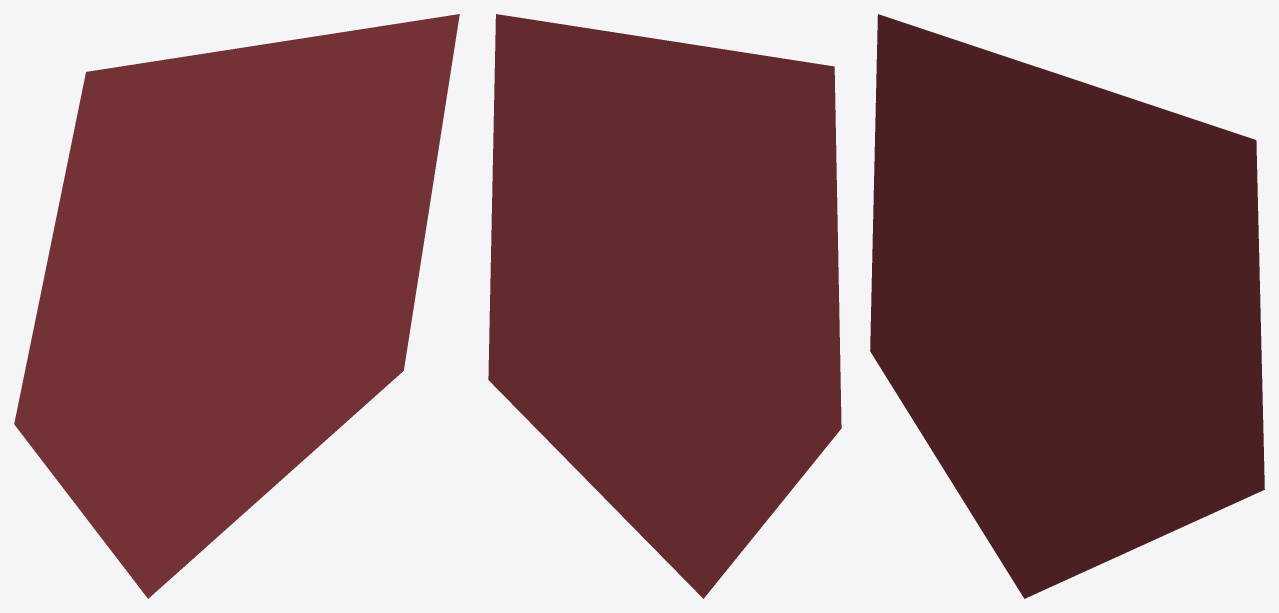
File: wk_shell_shoulder_mantle_left_v01.glb
The picture shows the model from 3 angles, left to right: view 1: azimuth 30°, elevation 25°; view 2: azimuth 150°, elevation 25°; view 3: azimuth 330°, elevation 25°; orthographic projection. The views are drawn at different scales.
Visible parts, largest first — view 1: GEO_MantleLeft; view 2: GEO_MantleLeft; view 3: GEO_MantleLeft.
Boxes of the visible parts, x1=… form: GEO_MantleLeft: x1=14, y1=14, x2=459, y2=598; GEO_MantleLeft: x1=488, y1=14, x2=841, y2=598; GEO_MantleLeft: x1=870, y1=14, x2=1264, y2=598.
Bounding box in the file's own units: 0.52 × 0.7 × 0.09.
